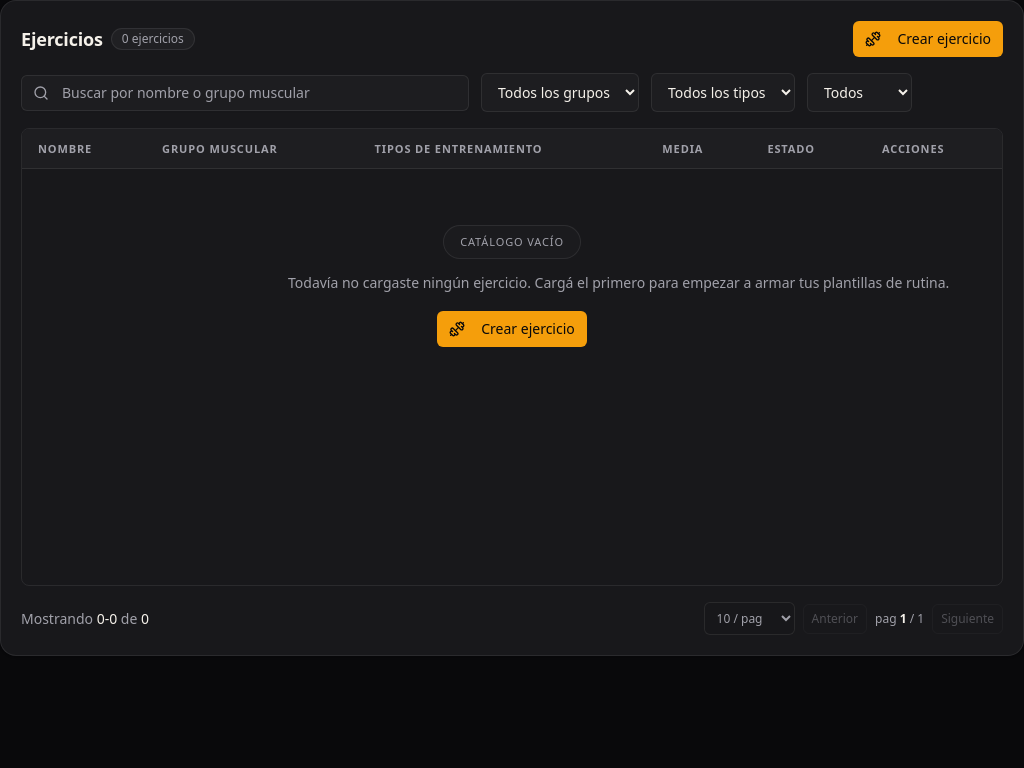
vista de Ejercicios › muestra el estado vacío de catálogo con la acción de crear ejercicio cuando no hay ninguno
The image size is (1024, 768).
Expected: the text "Catálogo vacío" is shown, [443,225,581,259]
Expected: the text "Todavía no cargaste ningún ejercicio. Cargá el primero para empezar a armar tus plantillas de rutina." is shown, [288,273,949,292]
Click the button "Crear ejercicio" below "Catálogo vacío" at (512, 329), box [437,311,587,347]
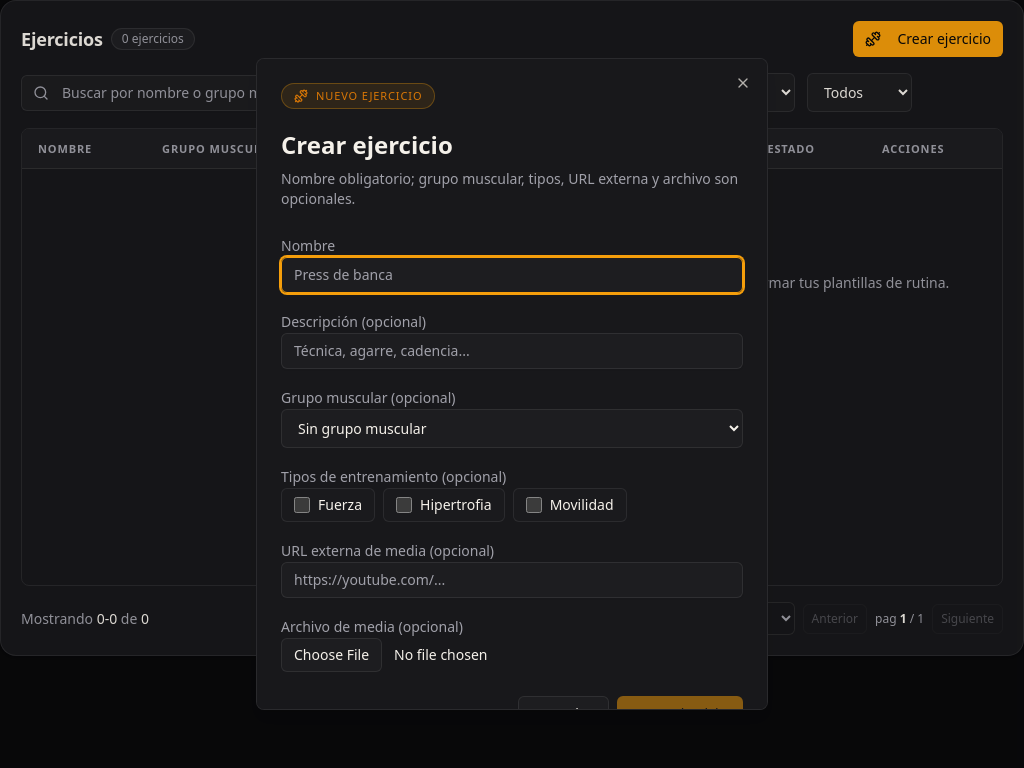
Now the dialog is shown, box [256,58,768,710]
